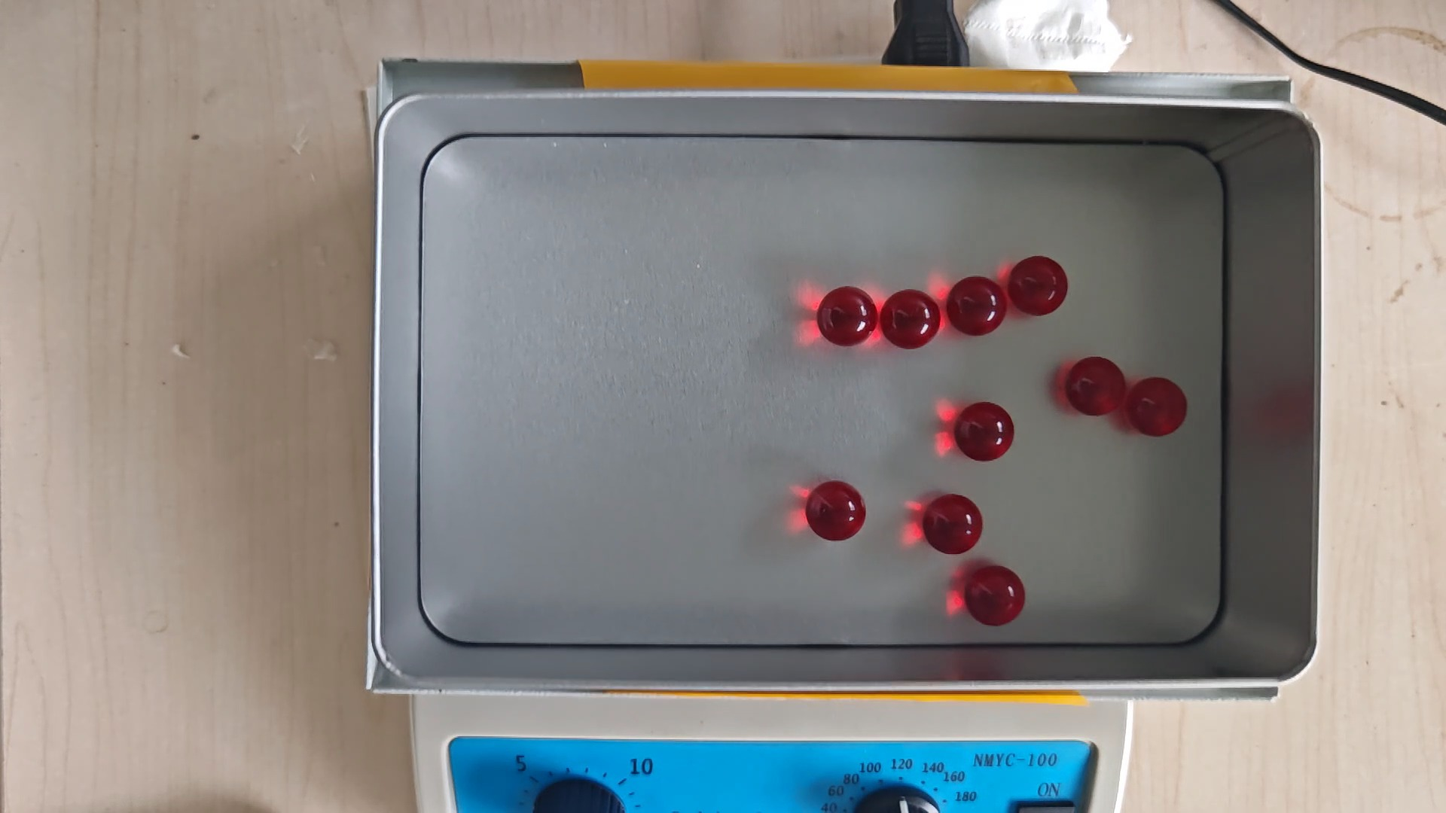ball: (964, 565, 1025, 627), (1066, 356, 1127, 417), (806, 480, 866, 542), (923, 493, 983, 555), (1127, 377, 1188, 437), (947, 276, 1007, 337), (818, 286, 877, 347), (1009, 255, 1068, 316), (883, 289, 941, 350), (955, 401, 1013, 462)
container: (412, 138, 1228, 639)
